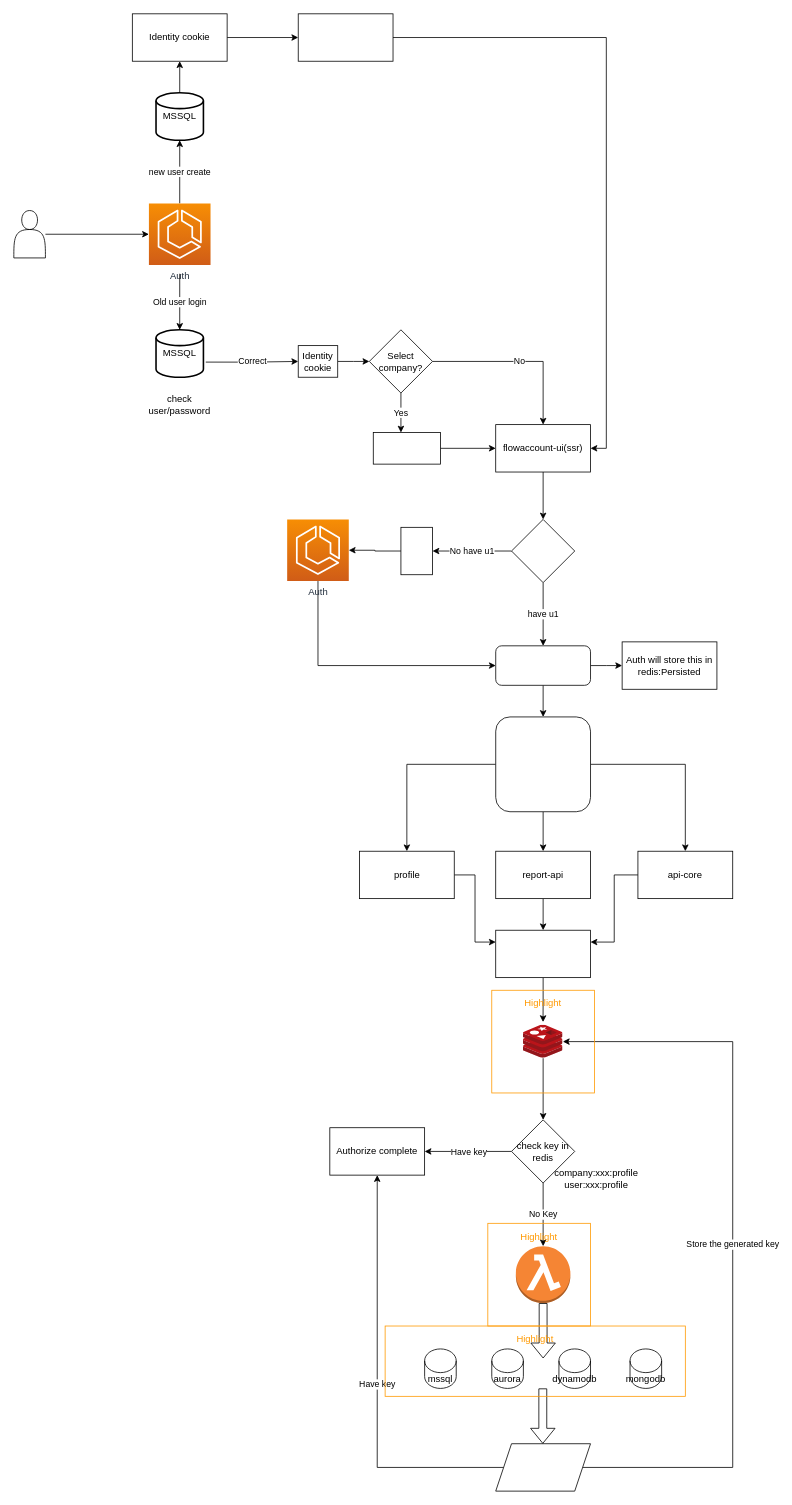
Some shapes in this 792 by 1505 pixel diagram are drawn without their labels. The centre of each missing label's shape, as x and y in pixels:
"ask for token" belongs at (x=416, y=551).
"check u1 cookie" belongs at (x=543, y=551).
"create company" belongs at (x=345, y=37).
"current.Profile" belongs at (x=543, y=953).
"generate key: company, user" belongs at (x=543, y=1467).
"profile-generator" belongs at (x=542, y=1274).
"redirect to ui home page" belongs at (x=543, y=764).
"select company" belongs at (x=406, y=448).
"SignalrScaleout" belongs at (x=542, y=1041).
"u1,u1p cookie" belongs at (x=543, y=665).
